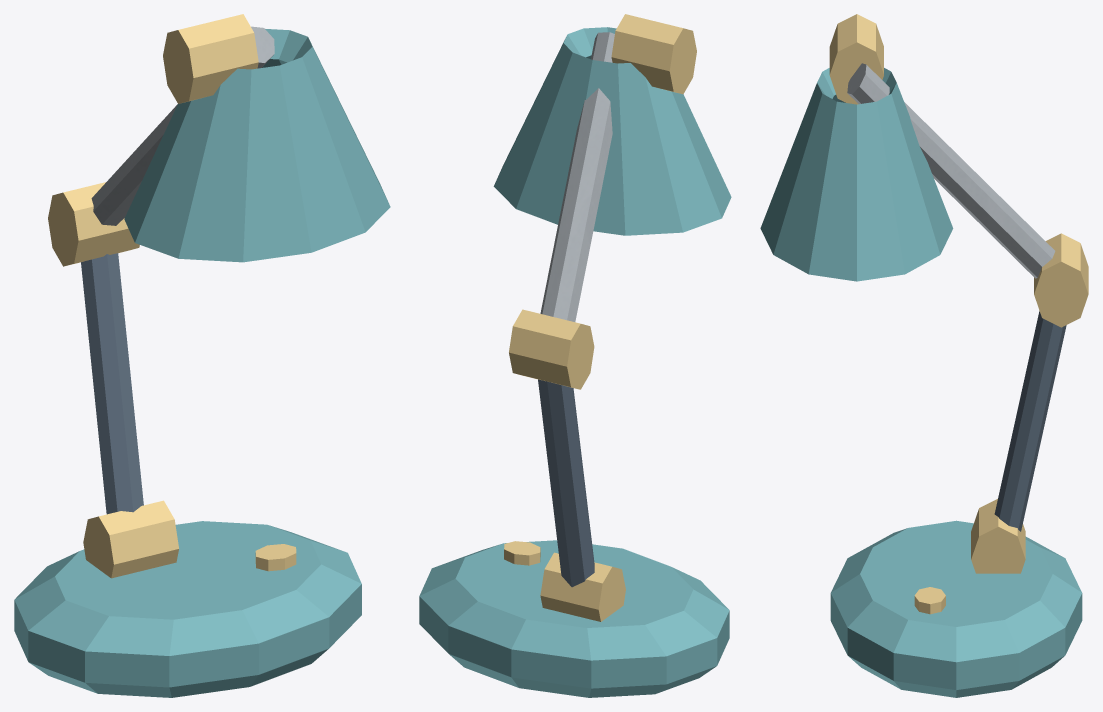
File: build_lamp.glb
3 renders of one model, left to right at view 1: azimuth 30°, elevation 25°; view 2: azimuth 150°, elevation 25°; view 3: azimuth 270°, elevation 25°, orthographic. The views are drawn at different scales.
Parts seen in each view (by area): view 1: build_lamp; view 2: build_lamp; view 3: build_lamp.
Part boxes in pixels (x1,y1,x2,y2): build_lamp: (14,14,390,697); build_lamp: (419,14,731,697); build_lamp: (760,14,1088,697).
Size of the model in its own units: 0.4 by 0.8 by 0.4.
Materials: 5 (2 with a texture image).
